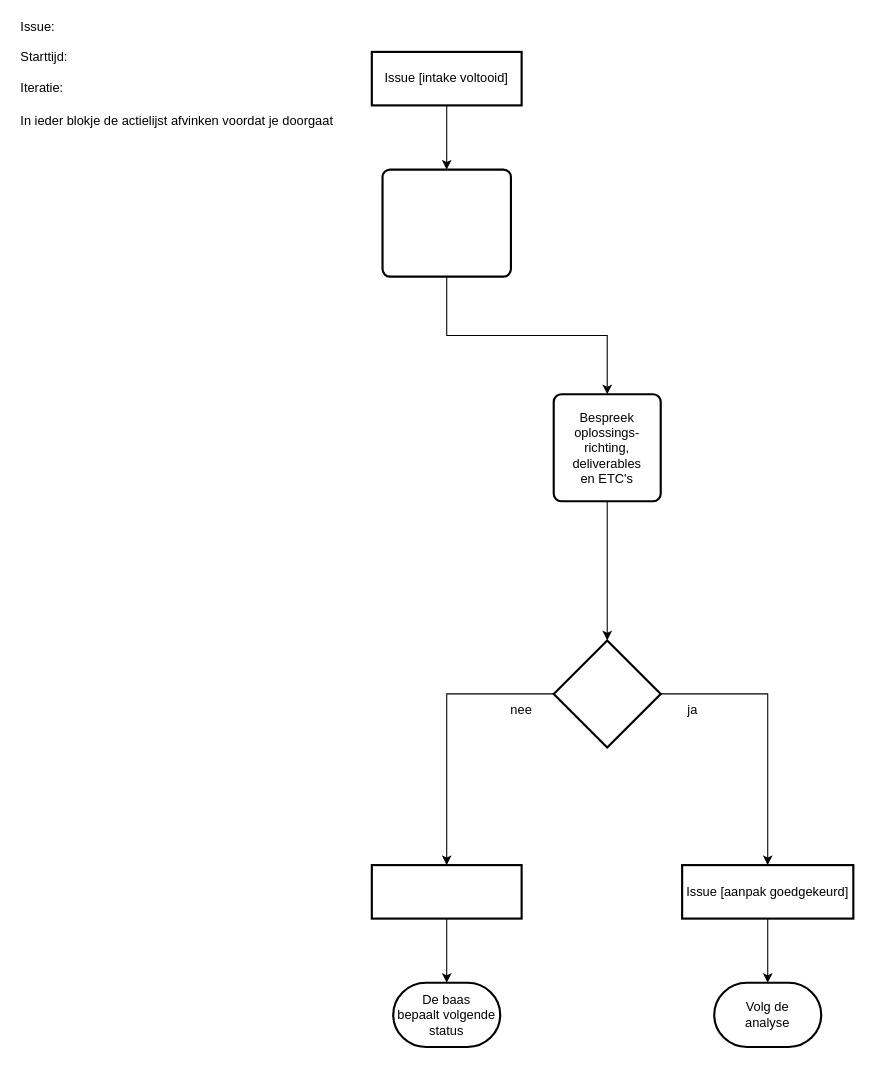
Image size: 872x1066. Some labels were removed from this diagram. The shapes that lost their labels are listed below. From the top down, each one's centre as x and y in pixels, then its label:
At point (446, 222): "Is de baas aanwezig? (indien niet aanwezig: meldplicht)".
At point (606, 693): "Goedkeuring?".
At point (446, 891): "Issue [aanpak afgekeurd]".
